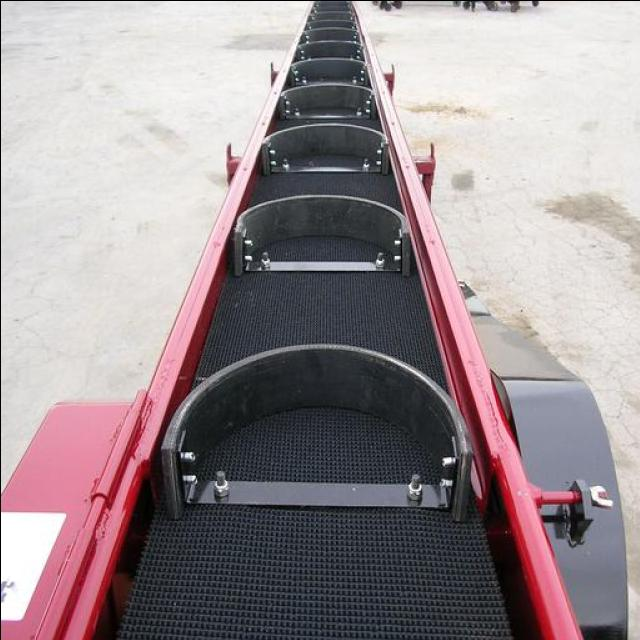conveyor: (73, 0, 567, 638)
